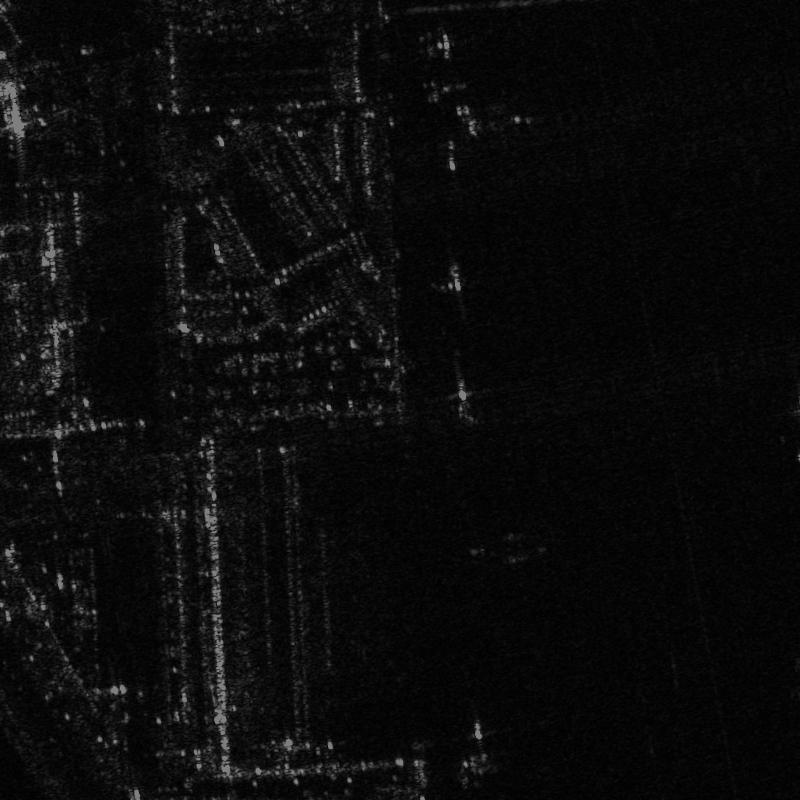A220: (436, 368, 491, 423), (450, 718, 502, 775), (435, 263, 480, 318), (411, 30, 471, 64), (445, 100, 482, 140)
other: (418, 78, 475, 104)
